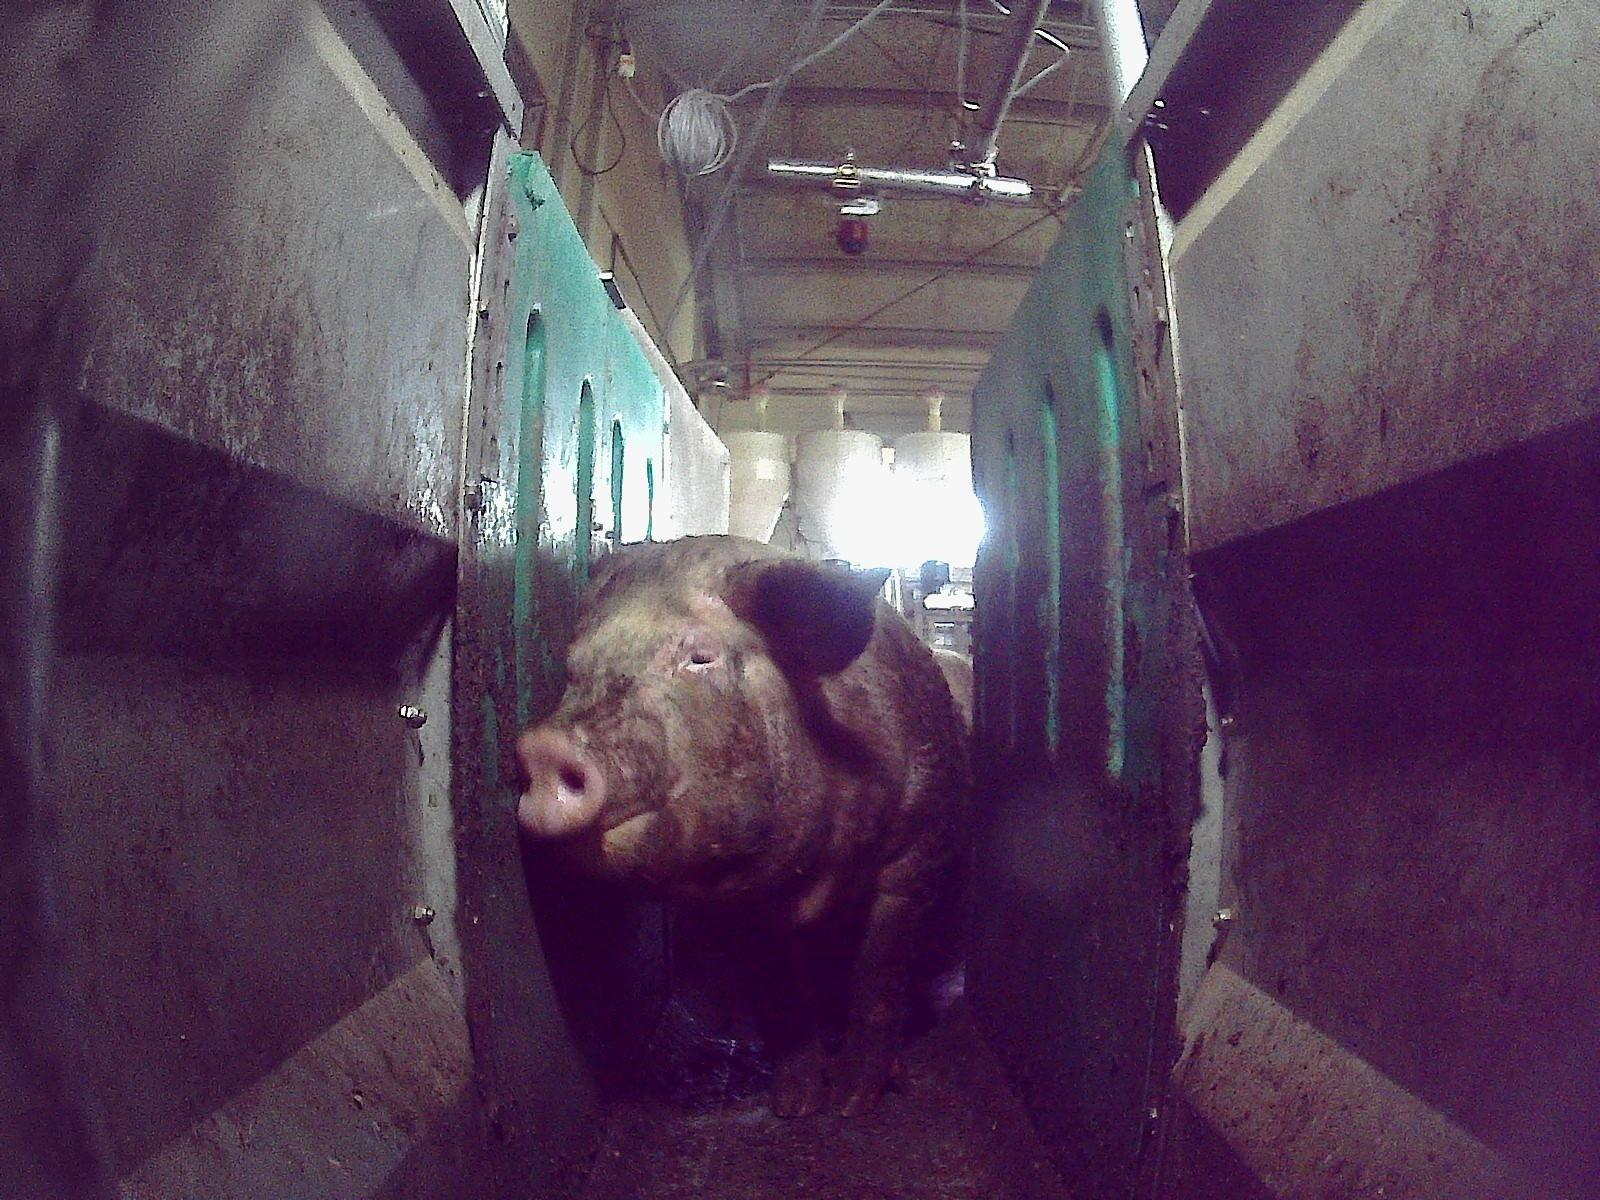Face: (511, 537, 807, 890)
